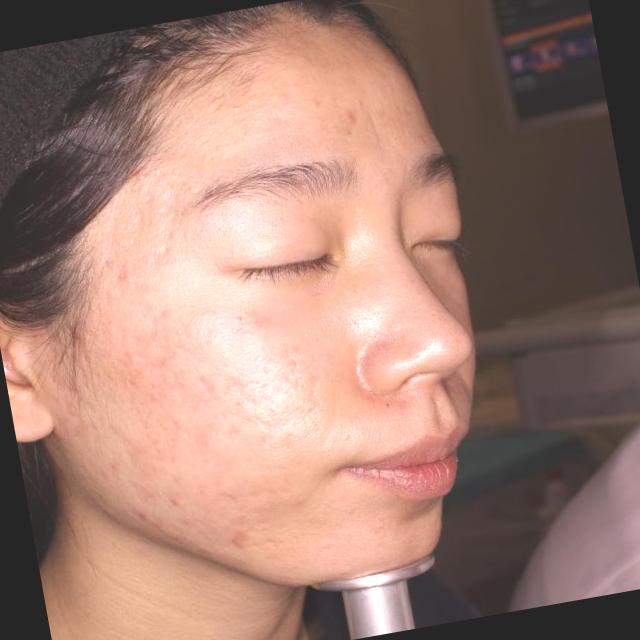acne: (215, 515, 288, 563), (336, 94, 381, 160), (122, 493, 174, 536)
